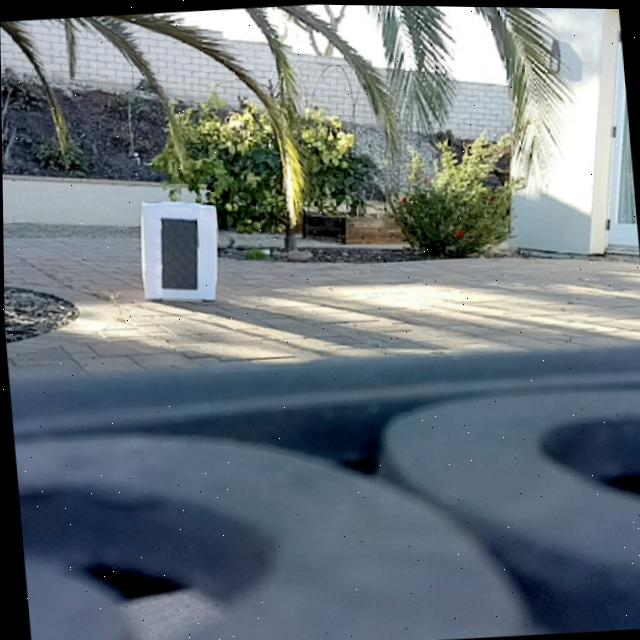led: (155, 214, 201, 294)
